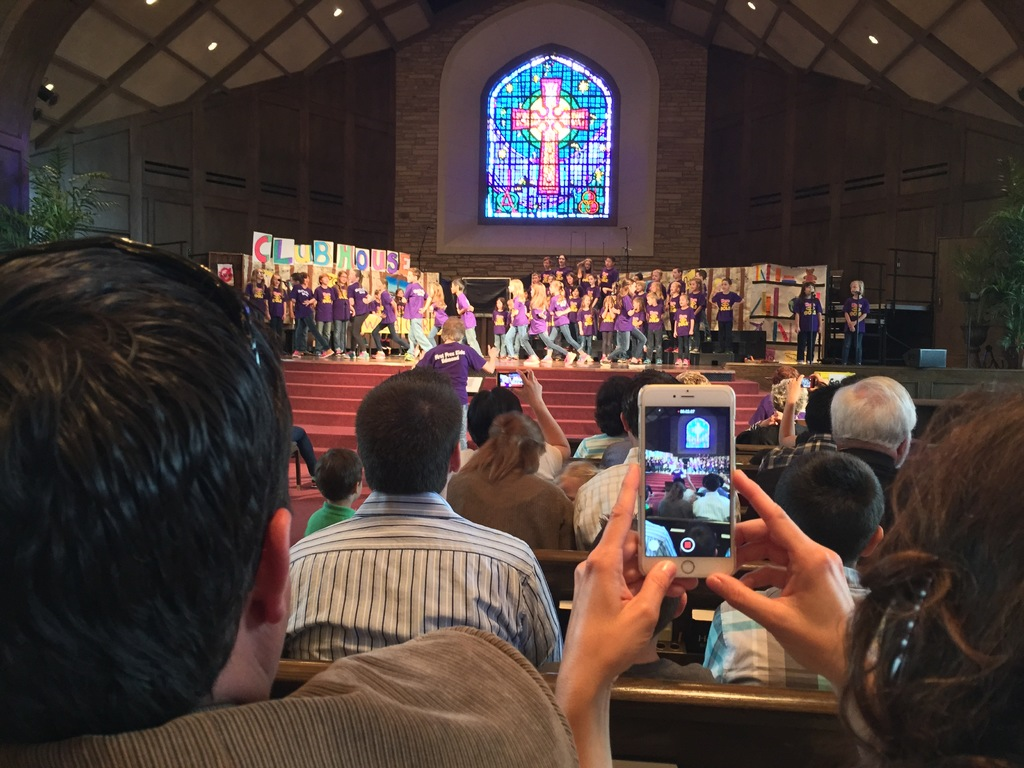Mobile-phone: (635, 382, 740, 580), (495, 370, 531, 390), (799, 377, 816, 391)
